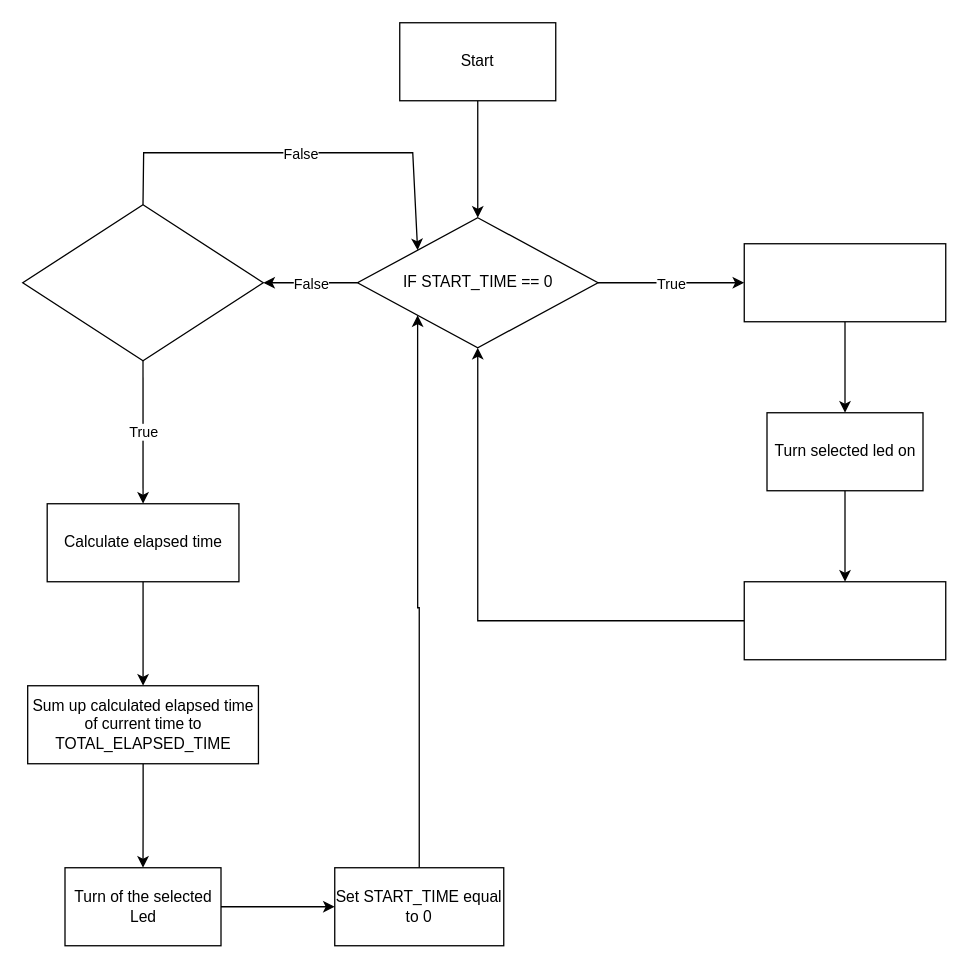
The diagram is 968 pixels wide and 968 high, and some of its shapes have lost their labels. Each missing label, with the box of its shape:
Select a random Led and the equivalent button: (743, 242, 946, 322)
Store current timestamp in START_TIMR: (743, 580, 946, 660)
Waits for the user to press equivalent button: (21, 203, 263, 361)
